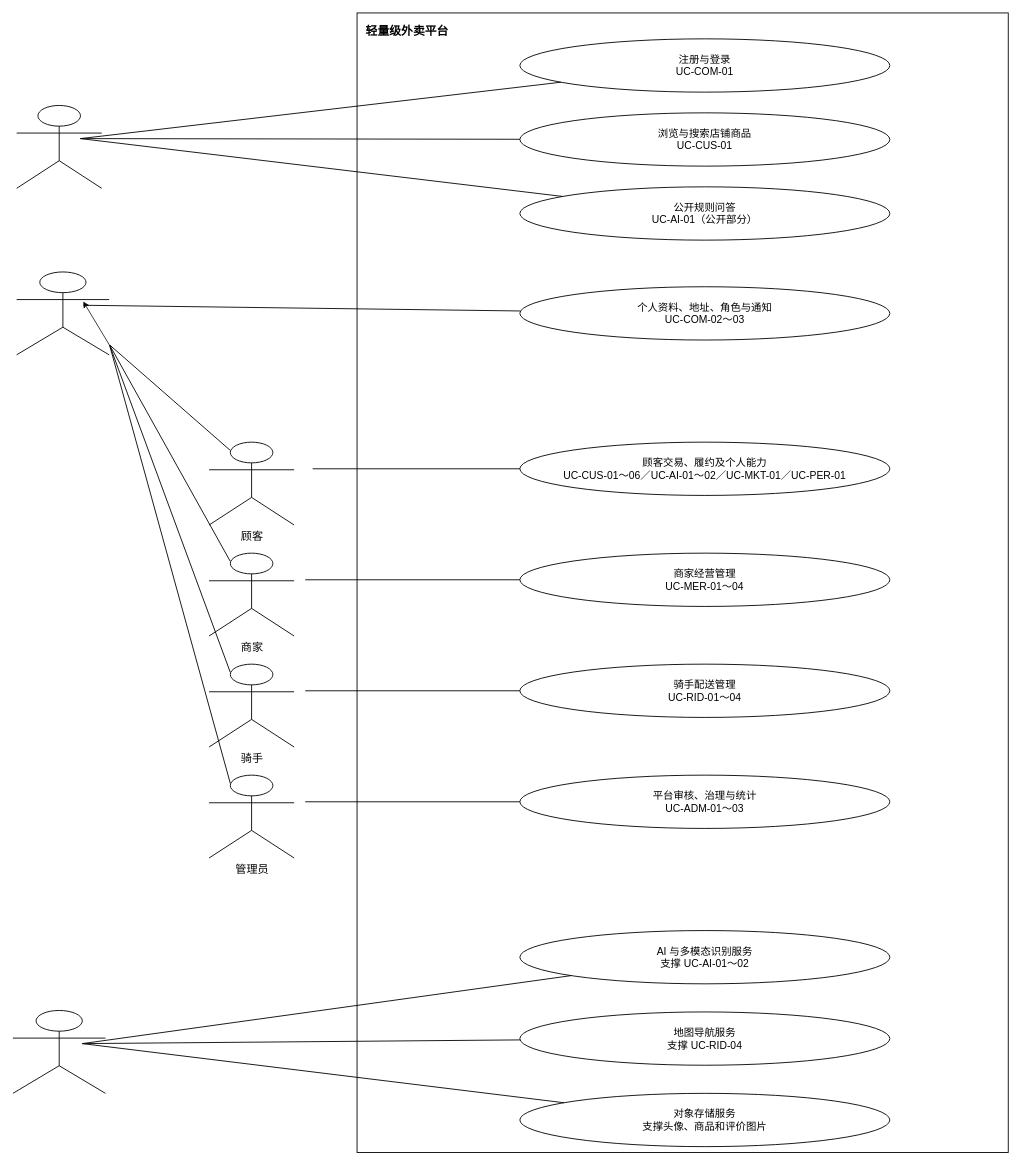
Some shapes in this 1022 by 1166 pixel diagram are drawn without their labels. The box of each missing label's shape, as (x1, y1, x2, y2) in pixels:
外部服务: (12, 1010, 106, 1093)
已登录用户: (16, 271, 109, 355)
游客: (16, 105, 102, 188)
